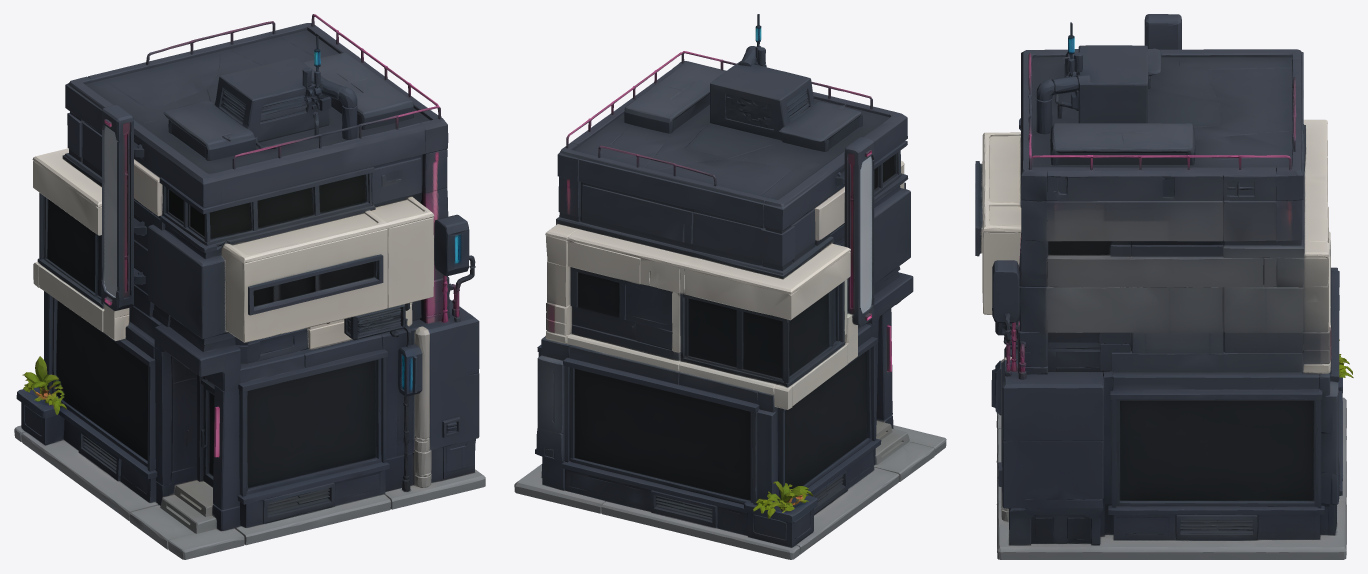
Rendered from source.glb.
3 views of the same model, side by side, from view 1: azimuth 30°, elevation 25°; view 2: azimuth 150°, elevation 25°; view 3: azimuth 270°, elevation 25° (orthographic). The views are drawn at different scales.
Visible parts, largest first — view 1: model; view 2: model; view 3: model.
Part boxes in pixels (<box>): model: <box>14,14,485,559</box>; model: <box>514,14,946,559</box>; model: <box>975,14,1353,559</box>.
Bounding box in the file's own units: 1.33 × 1.89 × 1.38.
1 material, 1 textured.
